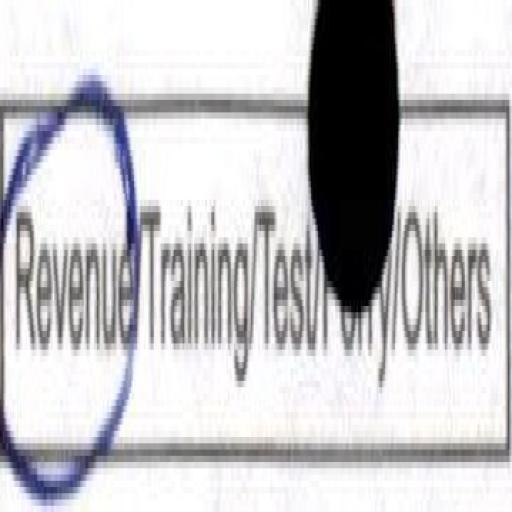check: (0, 54, 137, 511)
